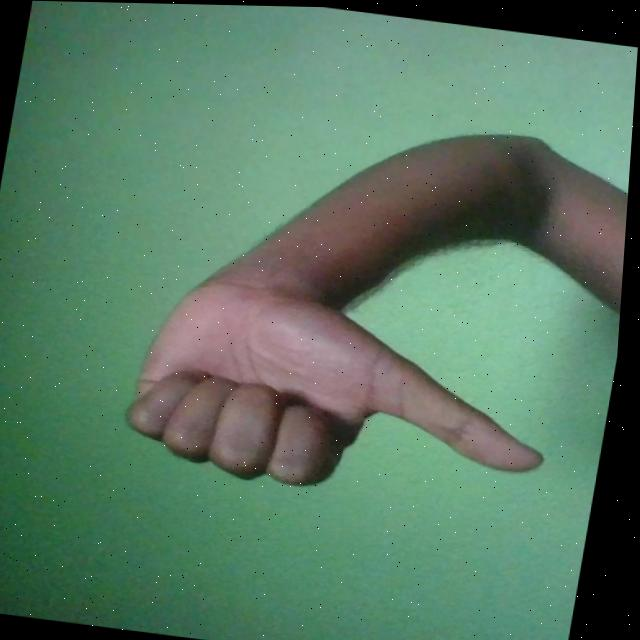Dislike: (120, 263, 574, 511)
